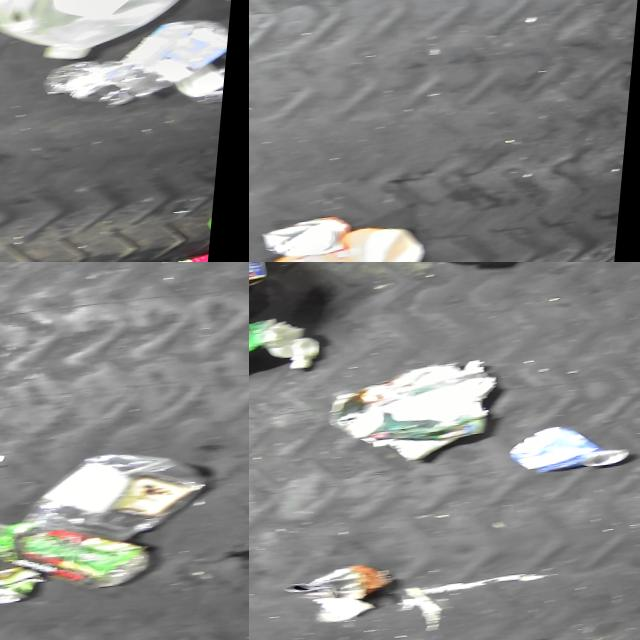can: (288, 566, 399, 630), (269, 223, 360, 262), (0, 568, 57, 610), (249, 262, 269, 293)
non_white_jug: (249, 231, 435, 262)
